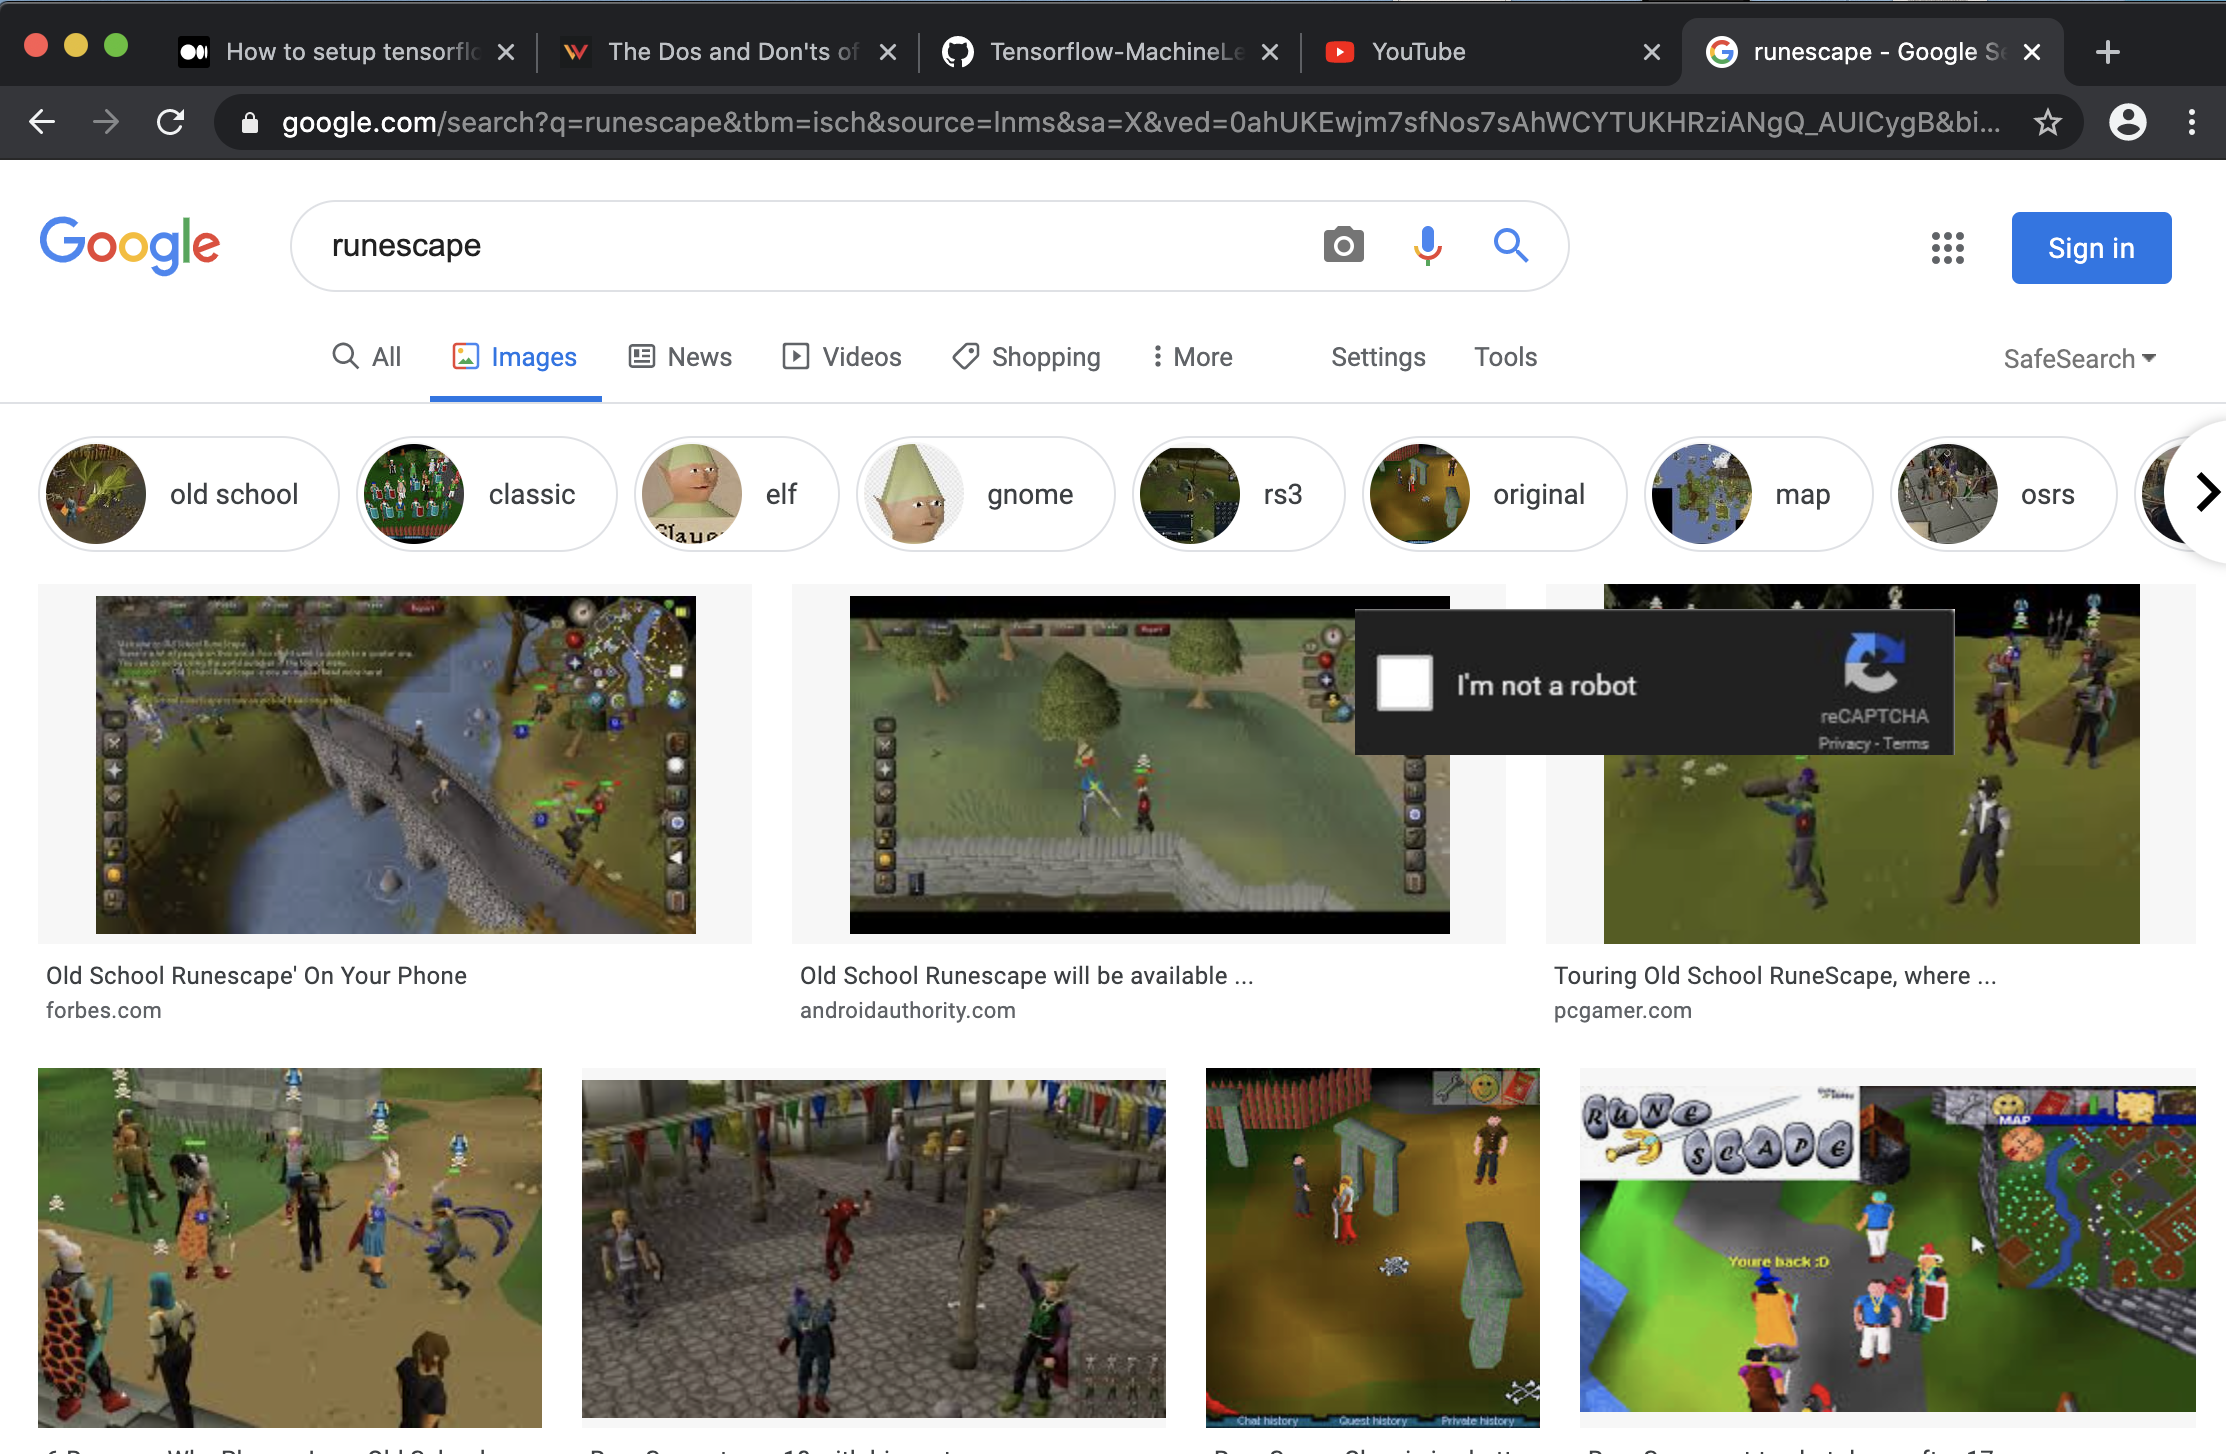captcha: (1343, 586, 1989, 776)
